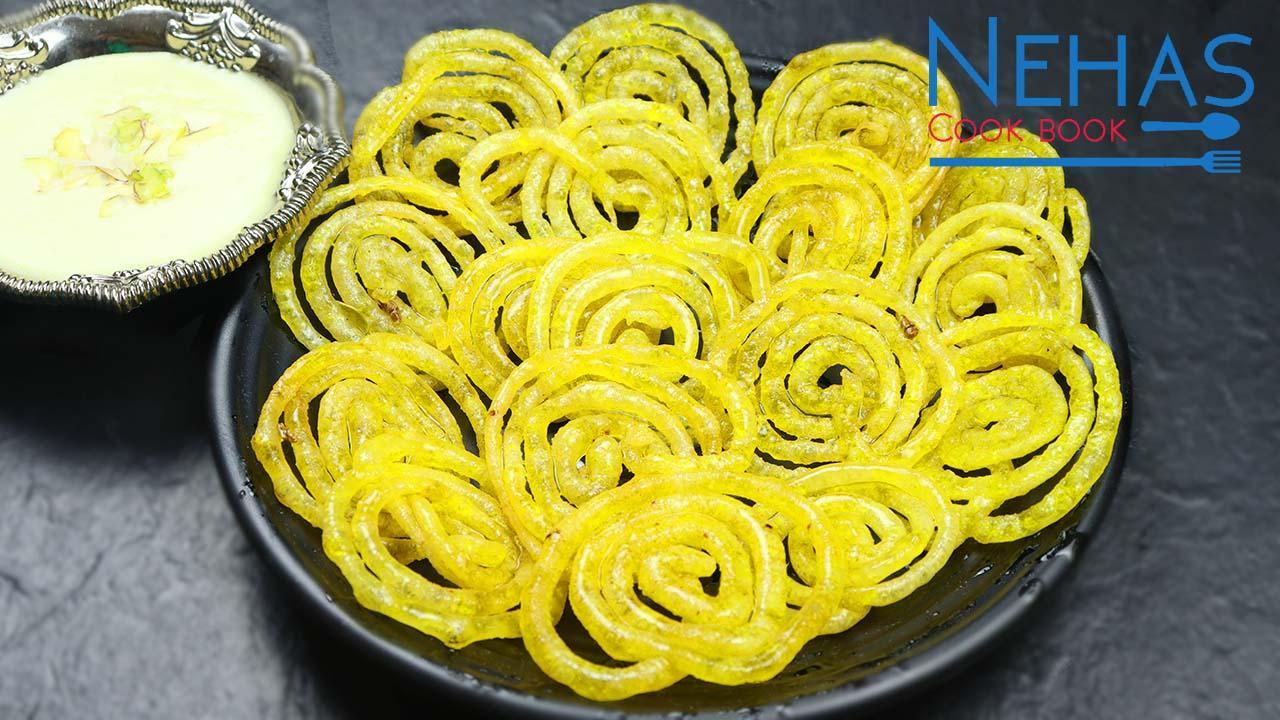jalebi: (288, 21, 1114, 684)
